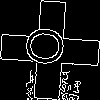O: (25, 25, 74, 68)
